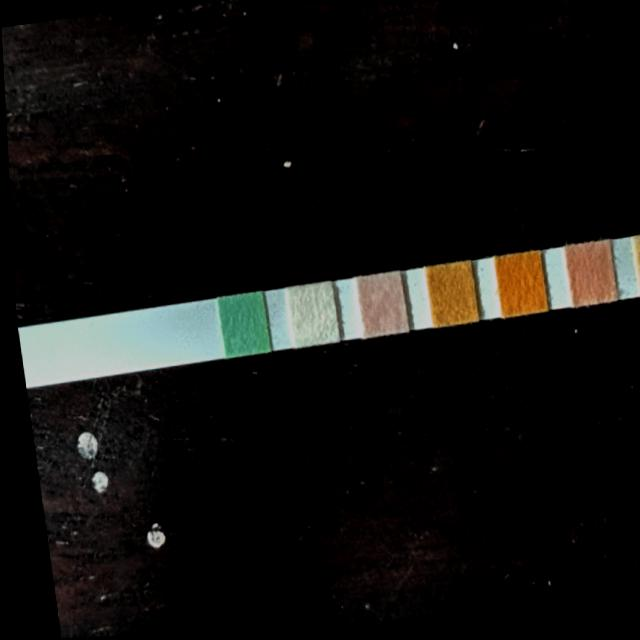Bilirubin: (283, 286, 334, 348)
Blood: (492, 257, 542, 321)
Glucose: (214, 294, 263, 357)
Ketone: (353, 275, 402, 340)
Protein: (630, 241, 640, 301)
SpGravity: (423, 266, 473, 330)
pH: (561, 247, 612, 311)
